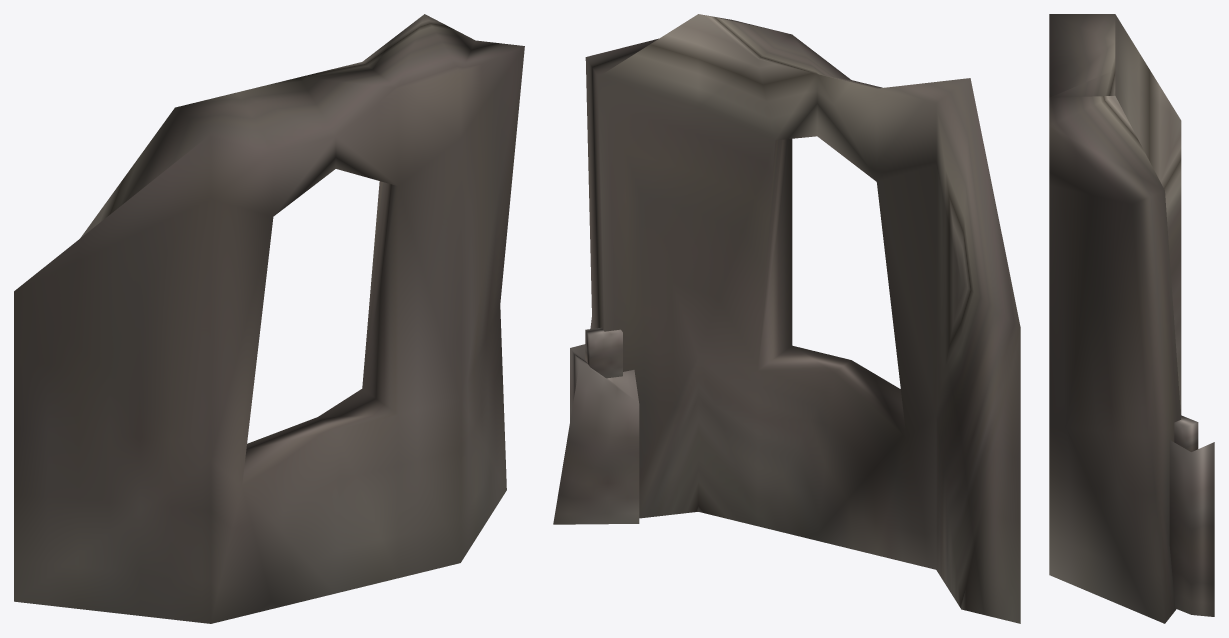
The model's file is ruin1.glb.
3 views of the same model, side by side, from view 1: azimuth 30°, elevation 25°; view 2: azimuth 150°, elevation 25°; view 3: azimuth 270°, elevation 25° (orthographic). The views are drawn at different scales.
Parts seen in each view (by area): view 1: ruin1; view 2: ruin1; view 3: ruin1.
Part boxes in pixels (x1=…): ruin1: x1=14, y1=14, x2=524, y2=623; ruin1: x1=553, y1=14, x2=1020, y2=623; ruin1: x1=1049, y1=14, x2=1214, y2=623.
Size of the model in its own units: 7.75 by 8 by 2.5.
Materials: 1 (1 with a texture image).
